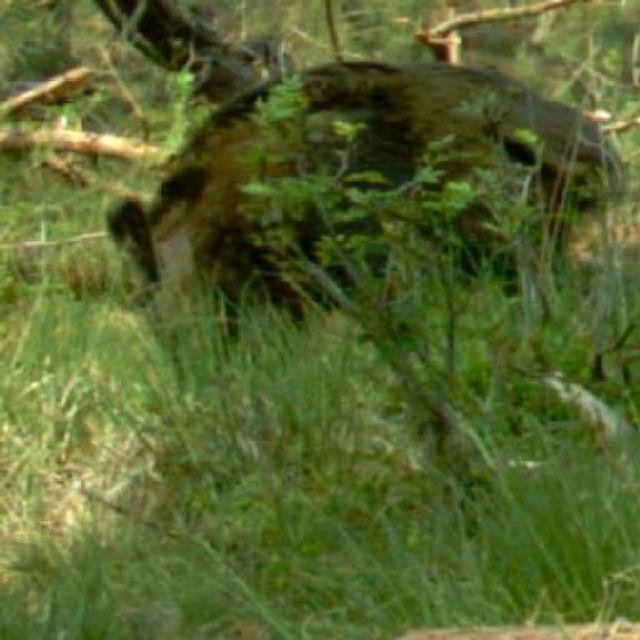WildBoar: (116, 55, 638, 376)
